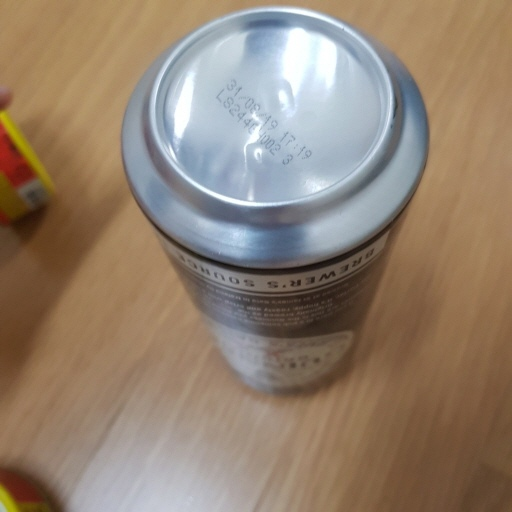Metal_0: (112, 6, 430, 399)
